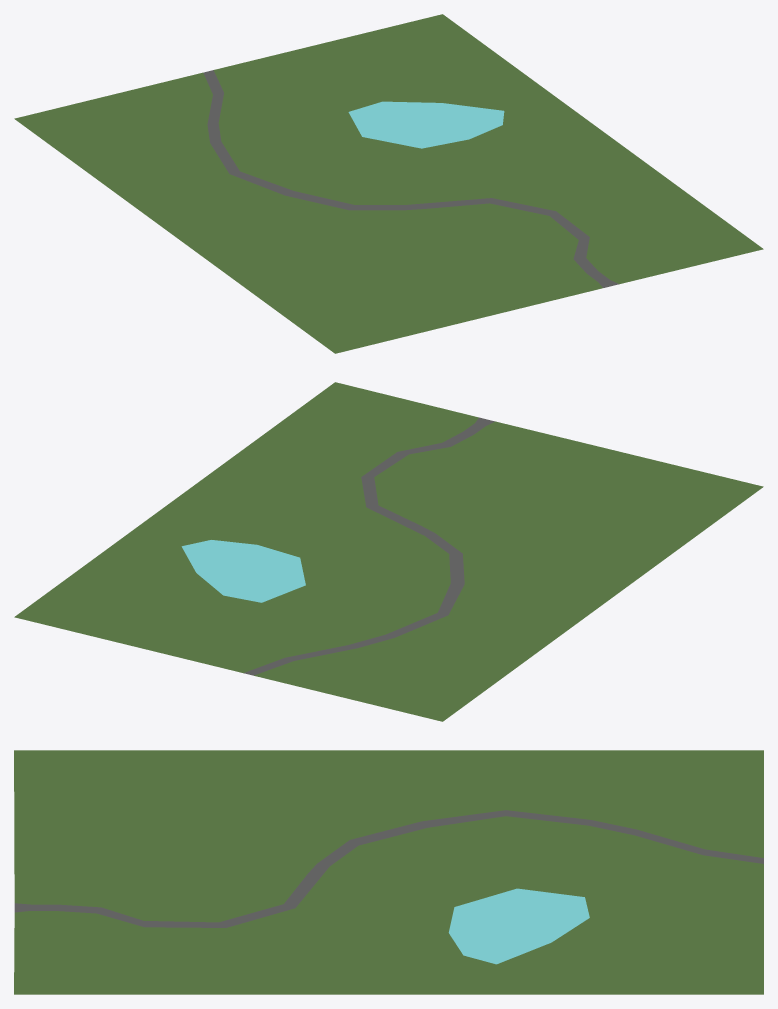
Rendered from rock_kicking_park_ground.glb.
3 renders of one model, top to bottom at view 1: azimuth 30°, elevation 25°; view 2: azimuth 150°, elevation 25°; view 3: azimuth 270°, elevation 25°, orthographic. The views are drawn at different scales.
Visible parts, largest first — view 1: test_ground, test_water, test_path; view 2: test_ground, test_water, test_path; view 3: test_ground, test_water, test_path.
Boxes of the visible parts, x1=… form: test_ground: x1=14, y1=14, x2=763, y2=353; test_water: x1=348, y1=101, x2=504, y2=148; test_path: x1=203, y1=70, x2=619, y2=287; test_ground: x1=14, y1=382, x2=763, y2=721; test_water: x1=181, y1=540, x2=305, y2=602; test_path: x1=243, y1=417, x2=494, y2=675; test_ground: x1=14, y1=750, x2=763, y2=994; test_water: x1=448, y1=888, x2=589, y2=964; test_path: x1=14, y1=810, x2=763, y2=927.
Bounding box in the file's own units: 840 × 0 × 1090.
